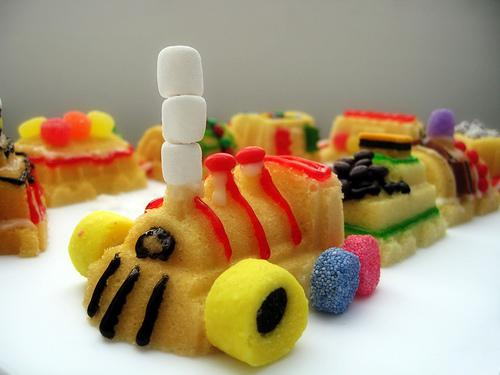Train: (69, 49, 500, 365)
